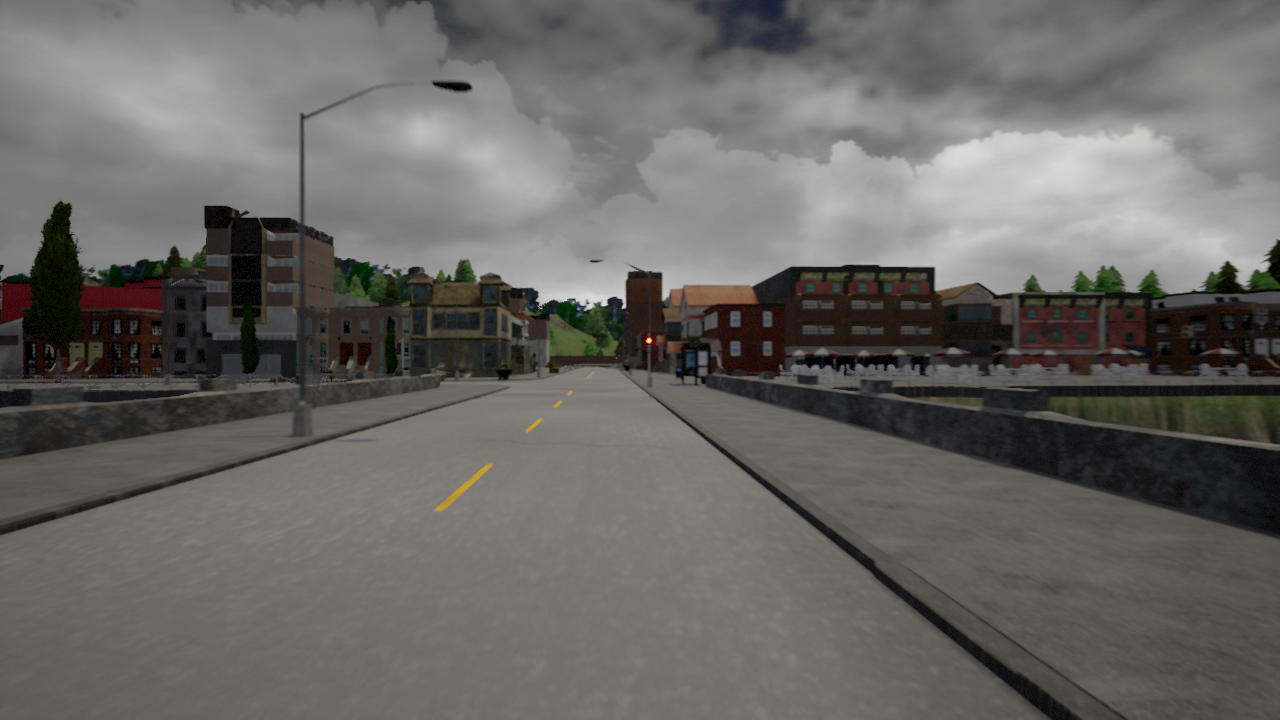red: (645, 336, 653, 353)
